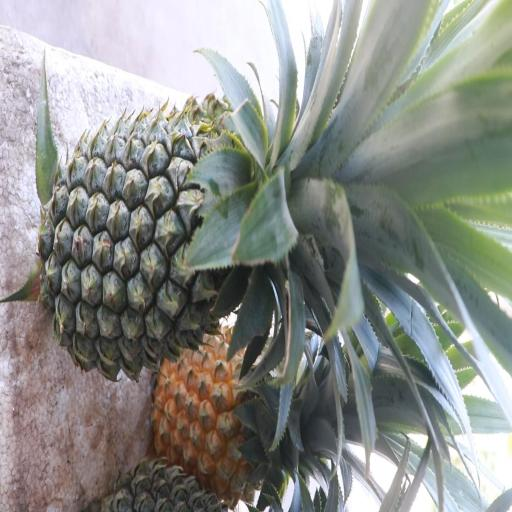Pineapple - v8 v1: (152, 338, 316, 495)
